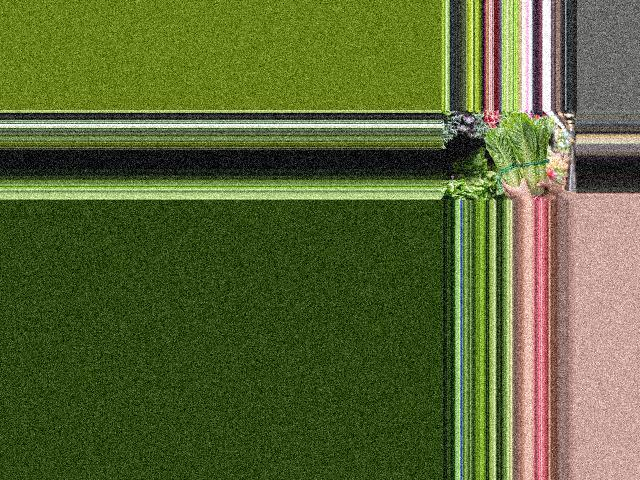lettuce: (483, 116, 550, 201)
